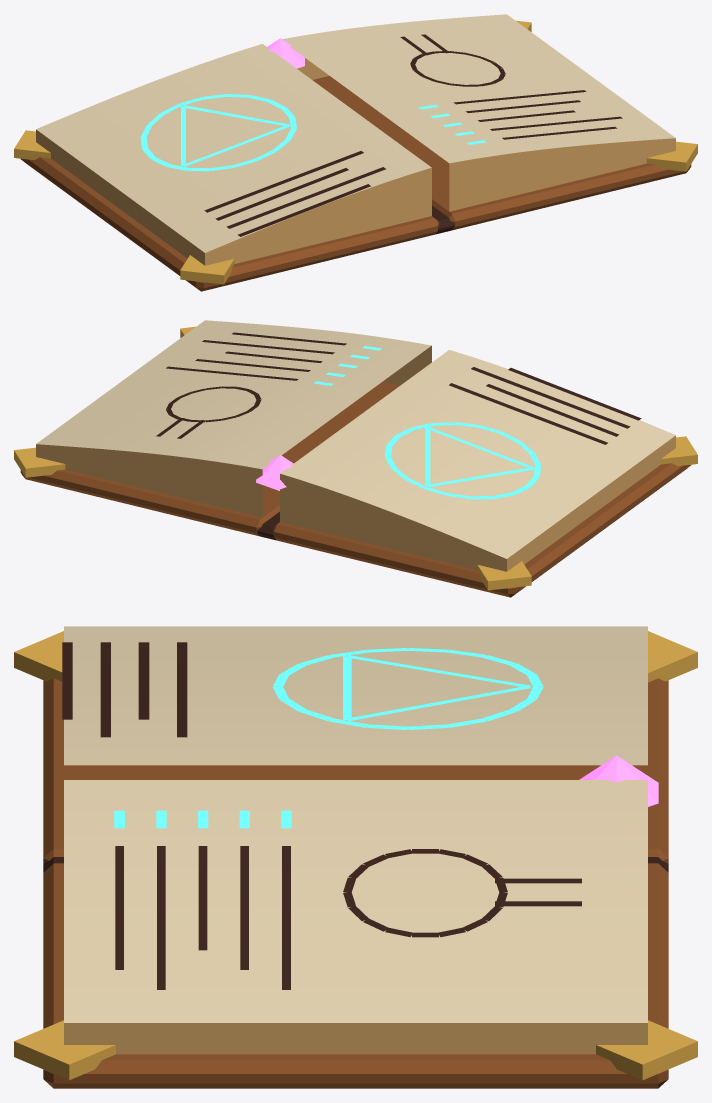
The model's file is Spell_Book_Open.fbx.
3 views of the same model, one above another, from view 1: azimuth 30°, elevation 25°; view 2: azimuth 150°, elevation 25°; view 3: azimuth 270°, elevation 25° (orthographic). The views are drawn at different scales.
Visible parts, largest first — view 1: Spell_Book_Open_Pages, Spell_Book_Open_Cover, Spell_Book_Open_Decoration; view 2: Spell_Book_Open_Pages, Spell_Book_Open_Cover, Spell_Book_Open_Decoration; view 3: Spell_Book_Open_Pages, Spell_Book_Open_Cover, Spell_Book_Open_Decoration.
Boxes of the visible parts, left/top/right/bottom form: Spell_Book_Open_Pages: left=36, top=14, right=675, bottom=265; Spell_Book_Open_Cover: left=21, top=76, right=691, bottom=291; Spell_Book_Open_Decoration: left=14, top=20, right=697, bottom=284; Spell_Book_Open_Pages: left=36, top=320, right=675, bottom=571; Spell_Book_Open_Cover: left=20, top=382, right=690, bottom=597; Spell_Book_Open_Decoration: left=14, top=326, right=697, bottom=590; Spell_Book_Open_Pages: left=64, top=626, right=647, bottom=1054; Spell_Book_Open_Cover: left=43, top=678, right=668, bottom=1088; Spell_Book_Open_Decoration: left=14, top=631, right=697, bottom=1080.
Bounding box in the file's own units: 0.5936 × 0.082 × 0.3936.
